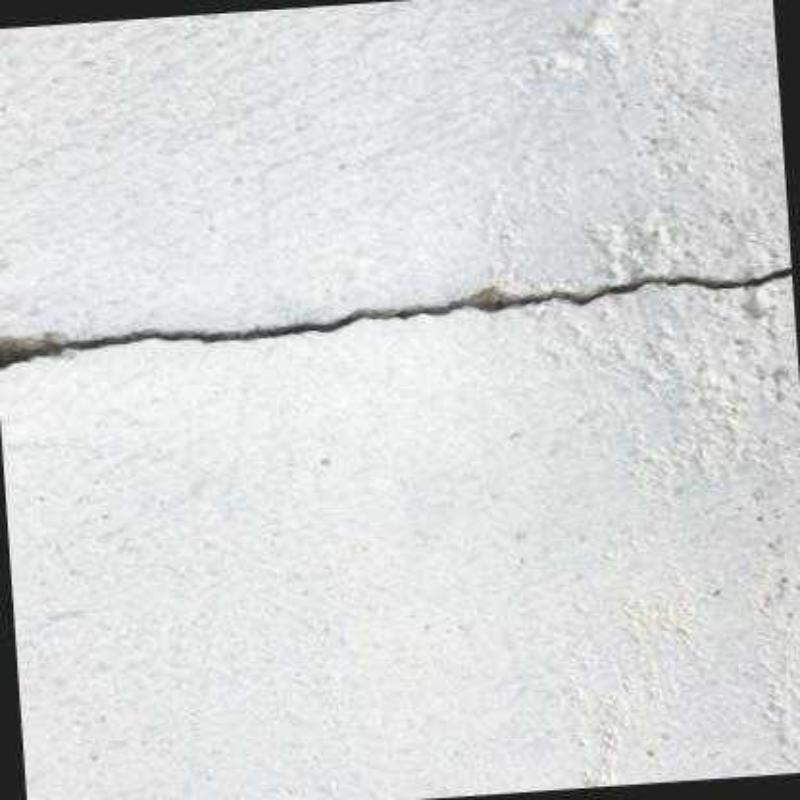pothole: (0, 267, 792, 372)
